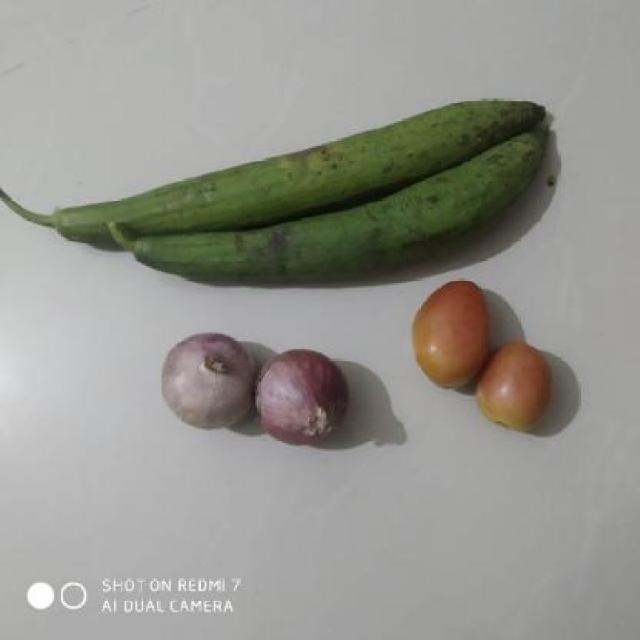Onion: (156, 329, 256, 434), (260, 349, 352, 451)
Sponge Gourd: (0, 78, 560, 286)
Tomato: (408, 274, 490, 394), (471, 342, 551, 440)
